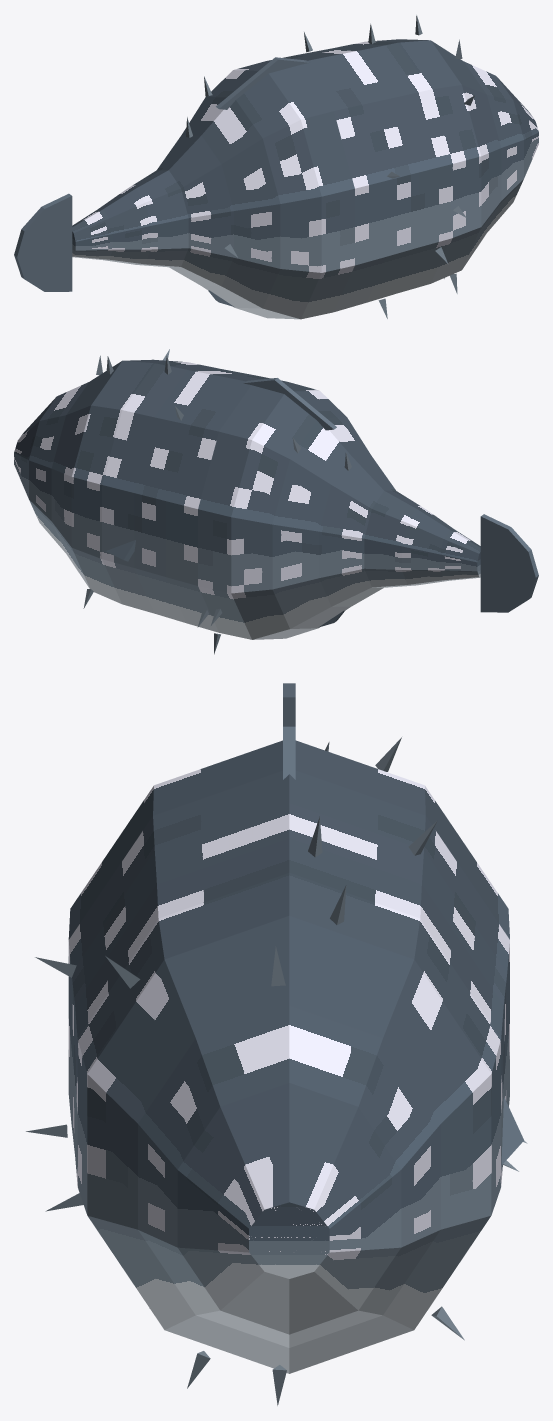
Rendered from starry_puffer.glb.
3 views of the same model, one above another, from view 1: azimuth 30°, elevation 25°; view 2: azimuth 150°, elevation 25°; view 3: azimuth 270°, elevation 25° (orthographic). The views are drawn at different scales.
Parts seen in each view (by area): view 1: fish_starry_puffer; view 2: fish_starry_puffer; view 3: fish_starry_puffer.
Part boxes in pixels (left/top/right/bottom): fish_starry_puffer: left=14, top=15, right=538, bottom=319; fish_starry_puffer: left=14, top=349, right=538, bottom=654; fish_starry_puffer: left=26, top=683, right=527, bottom=1405.
Size of the model in its own units: 1.12 by 0.5707 by 0.4753.
Materials: 5 (1 with a texture image).
